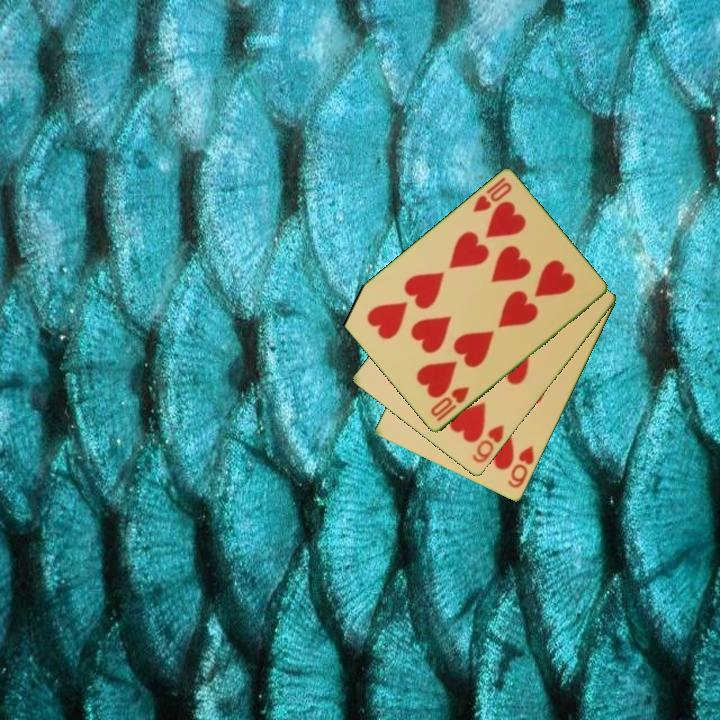10h: (469, 174, 515, 216), (427, 383, 472, 425)
6h: (469, 421, 507, 466), (505, 442, 537, 491)
